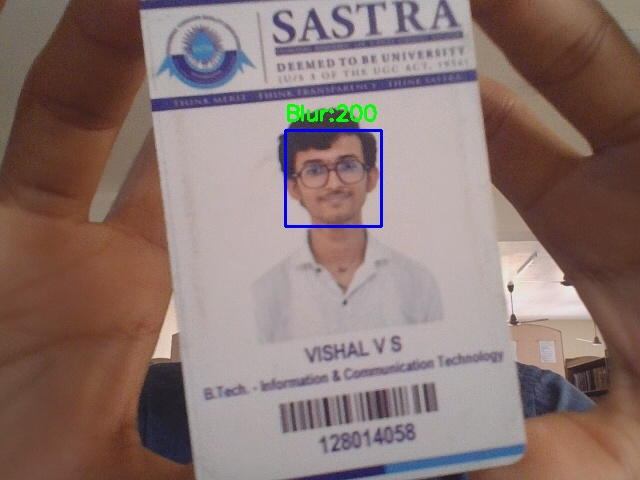fake: (285, 130, 381, 226)
